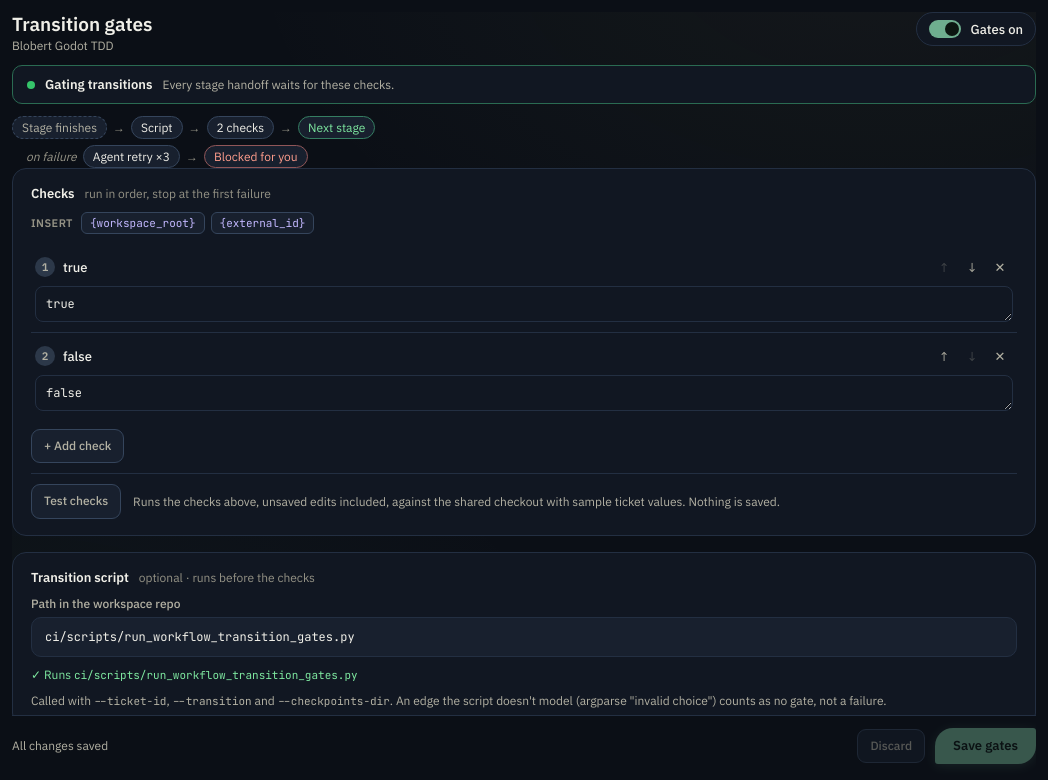
Scenario: WorkspaceGatesPanel › tests the draft checks and shows each verdict
What coordinates should you click on to do the following:
click the button "Test checks"
I would click on:
 (76, 502)
Its box is [31,484,121,519].
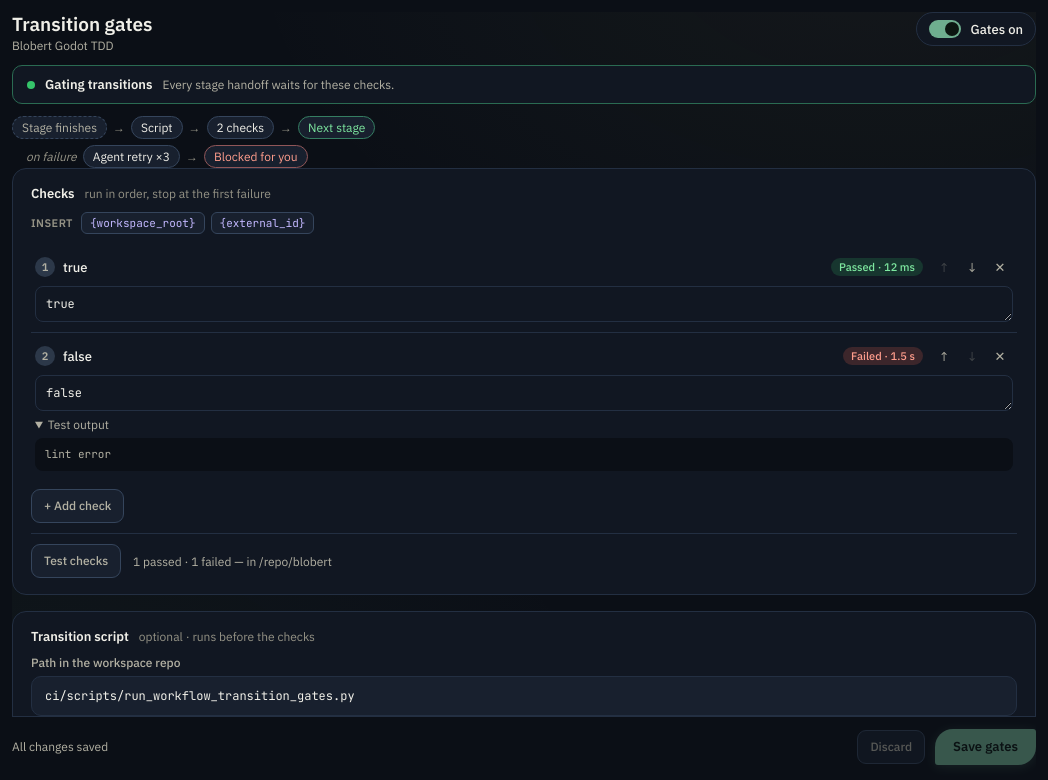
Check: the text "Passed · 12 ms" is shown, box [831,258,923,276]
Check: the text "Failed · 1.5 s" is shown, box [843,347,923,365]
Check: the text "lint error" is shown, box [35,438,1013,470]
